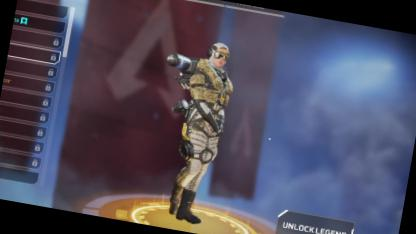Target: (161, 37, 239, 182)
